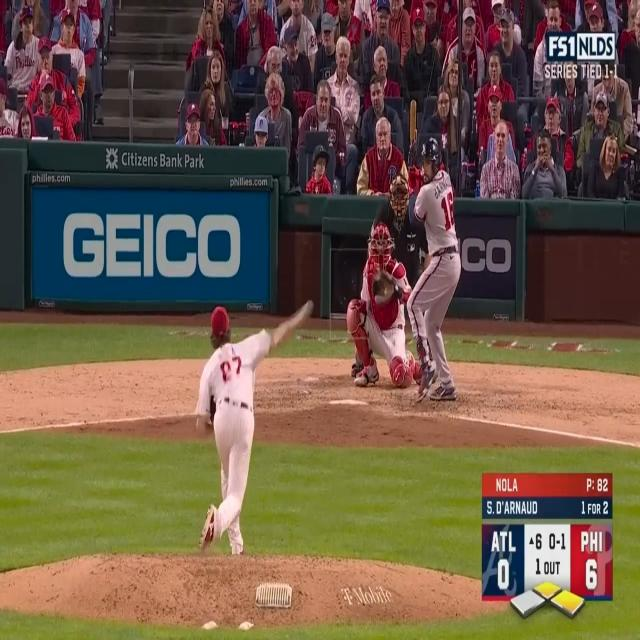baseball: (303, 297, 315, 316)
